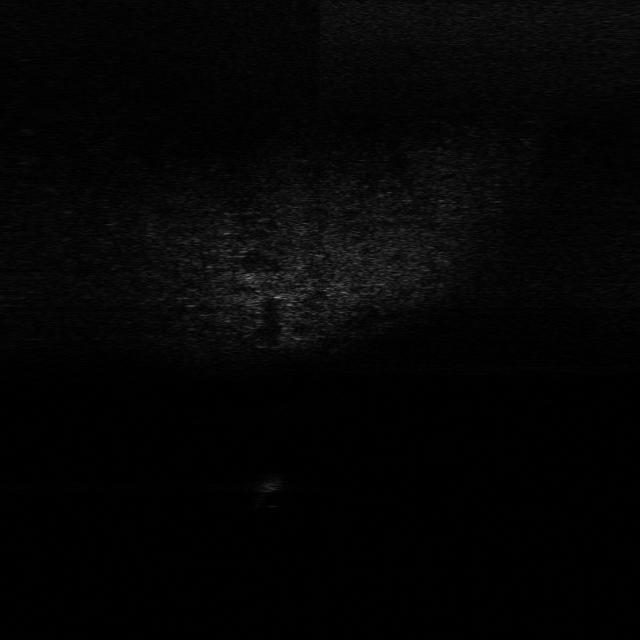cylinder: (251, 475, 287, 499)
